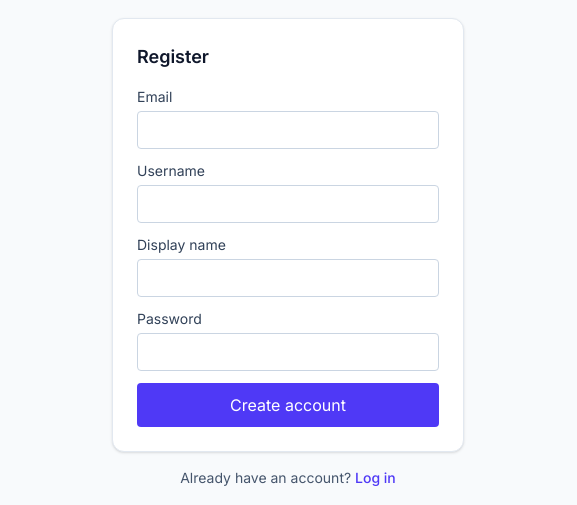
Test: RegisterPage › navigates to the authenticated app (real ProtectedRoute) on successful registration
Type "alice@example.com" into the field labelled "Email" at (288, 130), box [137, 111, 439, 149]
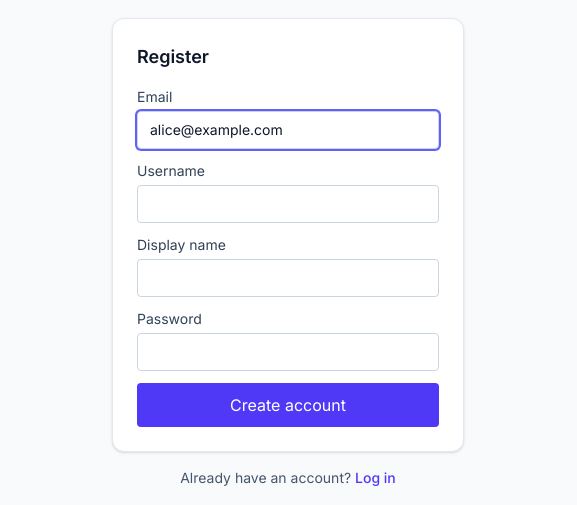
Type "alice" into the field labelled "Username" at (288, 204), box [137, 185, 439, 223]
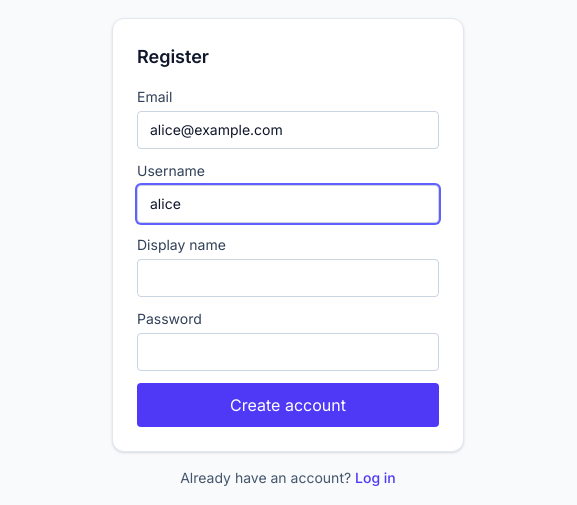
Type "Alice" into the field labelled "Display name" at (288, 278), box [137, 259, 439, 297]
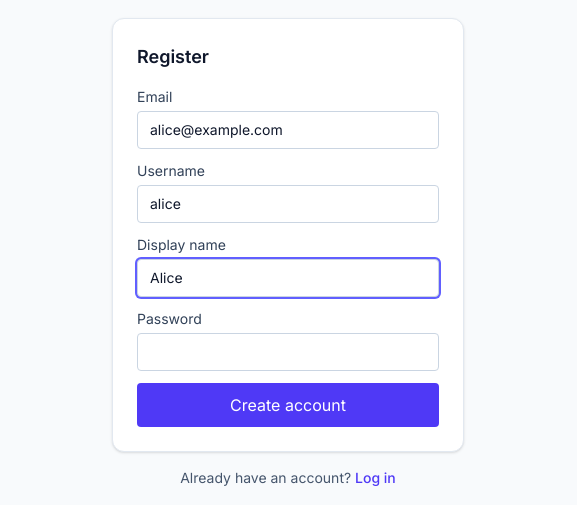
Type "supersecret" into the password field labelled "Password" at (288, 352), box [137, 333, 439, 371]
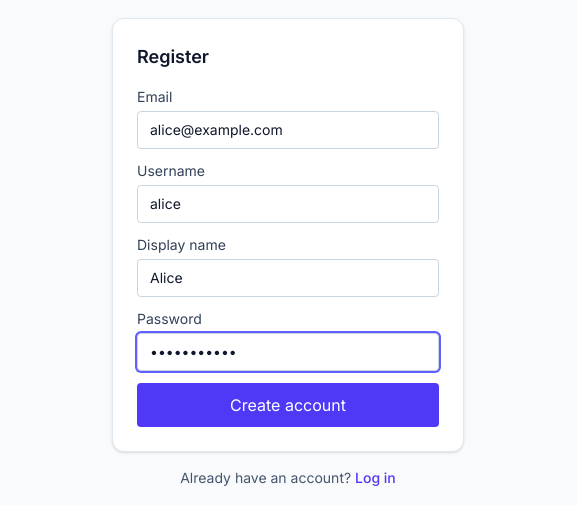
Click the button "Create account" at (288, 405), box [137, 383, 439, 427]
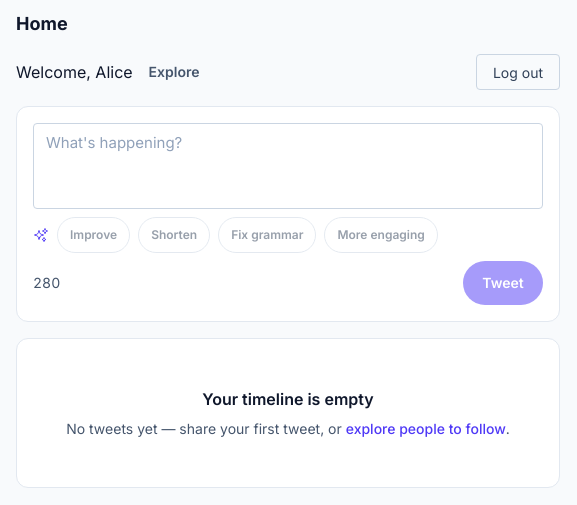
Expected: the text "Welcome, Alice" is shown, [16, 60, 133, 84]
